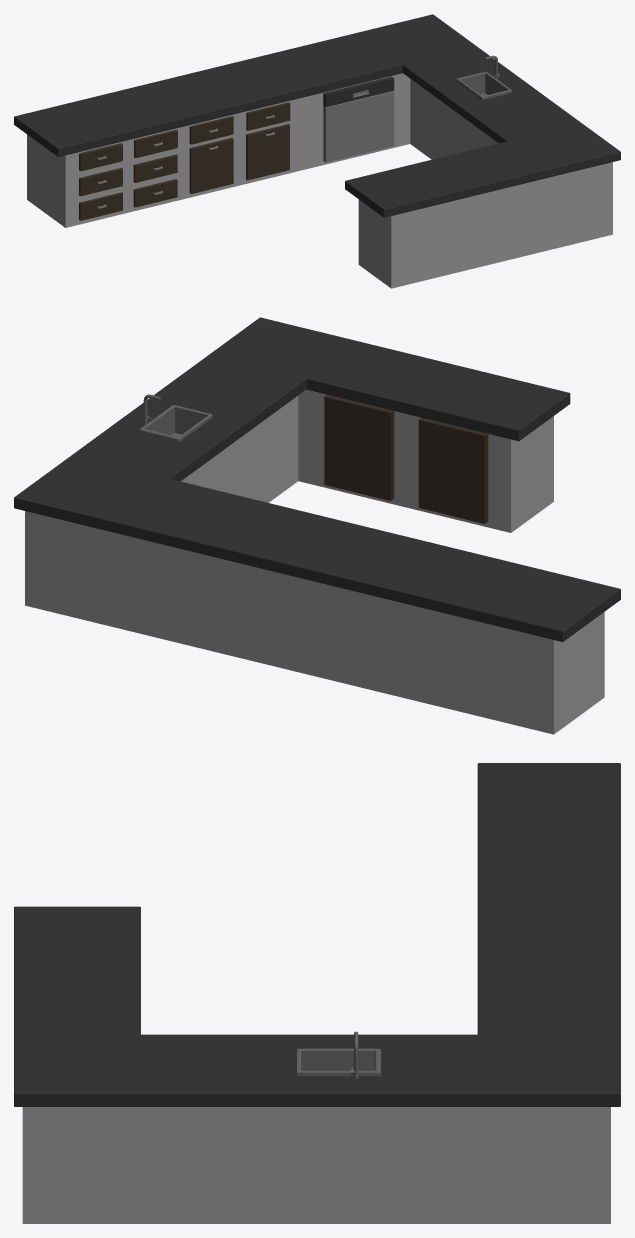
File: TearoomCounter.fbx
3 renders of one model, top to bottom at view 1: azimuth 30°, elevation 25°; view 2: azimuth 150°, elevation 25°; view 3: azimuth 270°, elevation 25°, orthographic. The views are drawn at different scales.
Parts seen in each view (by area): view 1: pasted__group19_pasted__pasted__group18_pasted__pasted__past; view 2: pasted__group19_pasted__pasted__group18_pasted__pasted__past; view 3: pasted__group19_pasted__pasted__group18_pasted__pasted__past.
Boxes of the visible parts, bbox=[...] form: pasted__group19_pasted__pasted__group18_pasted__pasted__past: bbox=[14, 14, 620, 288]; pasted__group19_pasted__pasted__group18_pasted__pasted__past: bbox=[14, 317, 620, 734]; pasted__group19_pasted__pasted__group18_pasted__pasted__past: bbox=[14, 763, 620, 1223].
Size of the model in its own units: 346 by 84.7 by 269.
